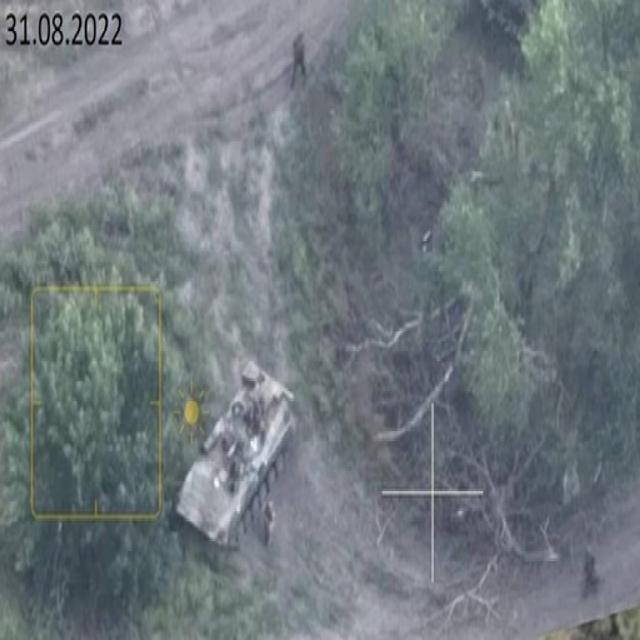APC-IFV: (166, 365, 296, 551)
